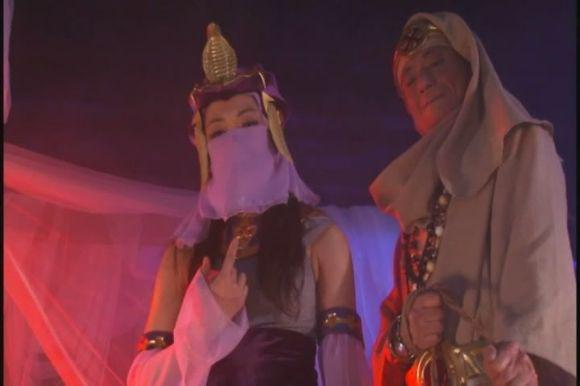NONE: (404, 55, 467, 123)
OK: (211, 111, 267, 167)
